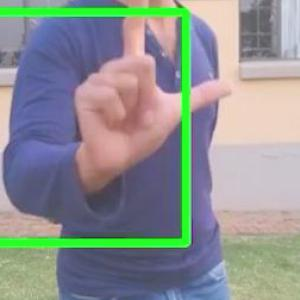land_hand: (64, 0, 237, 173)
